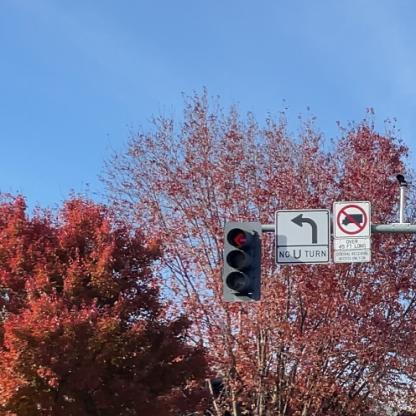left-red: (218, 216, 266, 306)
